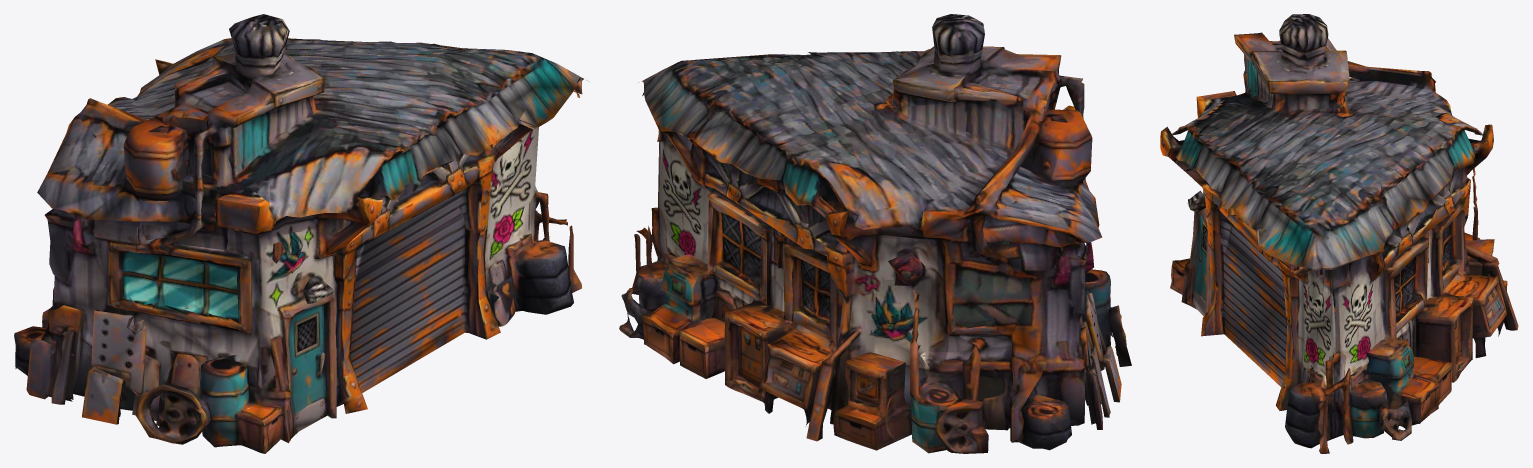
Rendered from GW_D05_workshop_facade.glb.
3 views of the same model, side by side, from view 1: azimuth 30°, elevation 25°; view 2: azimuth 150°, elevation 25°; view 3: azimuth 270°, elevation 25° (orthographic). The views are drawn at different scales.
Visible parts, largest first — view 1: tripo_node_492c9345-490b-4591-a48d-be3e6e0cc239; view 2: tripo_node_492c9345-490b-4591-a48d-be3e6e0cc239; view 3: tripo_node_492c9345-490b-4591-a48d-be3e6e0cc239.
Part boxes in pixels (x1,y1,x2,y2): tripo_node_492c9345-490b-4591-a48d-be3e6e0cc239: [14, 14, 588, 453]; tripo_node_492c9345-490b-4591-a48d-be3e6e0cc239: [619, 14, 1131, 453]; tripo_node_492c9345-490b-4591-a48d-be3e6e0cc239: [1160, 14, 1518, 453].
Bounding box in the file's own units: 0.9956 × 0.6522 × 0.6973.
1 material, 1 textured.
